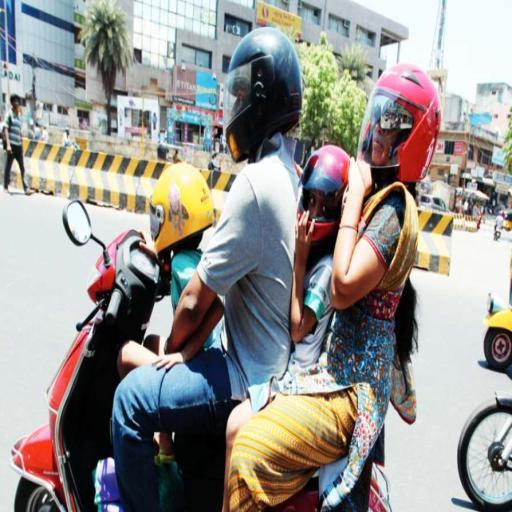no helmet: (192, 12, 298, 511)
triple riding: (164, 38, 448, 358)
